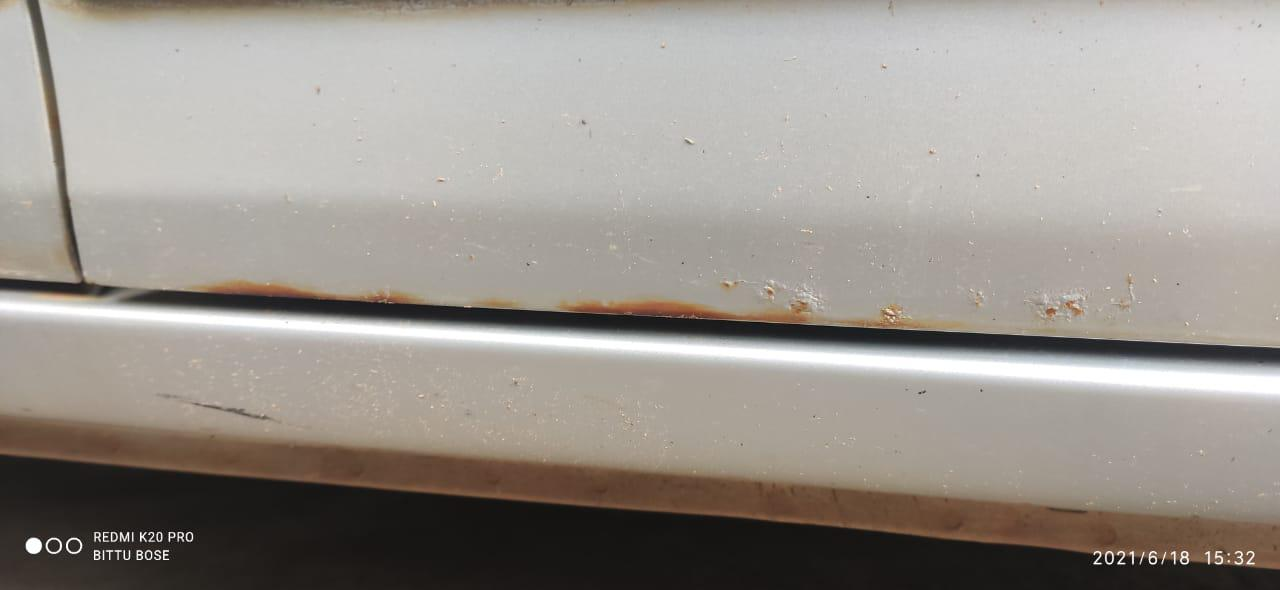RunningBoard-Dent: (93, 302, 805, 525), (812, 323, 1279, 574)
